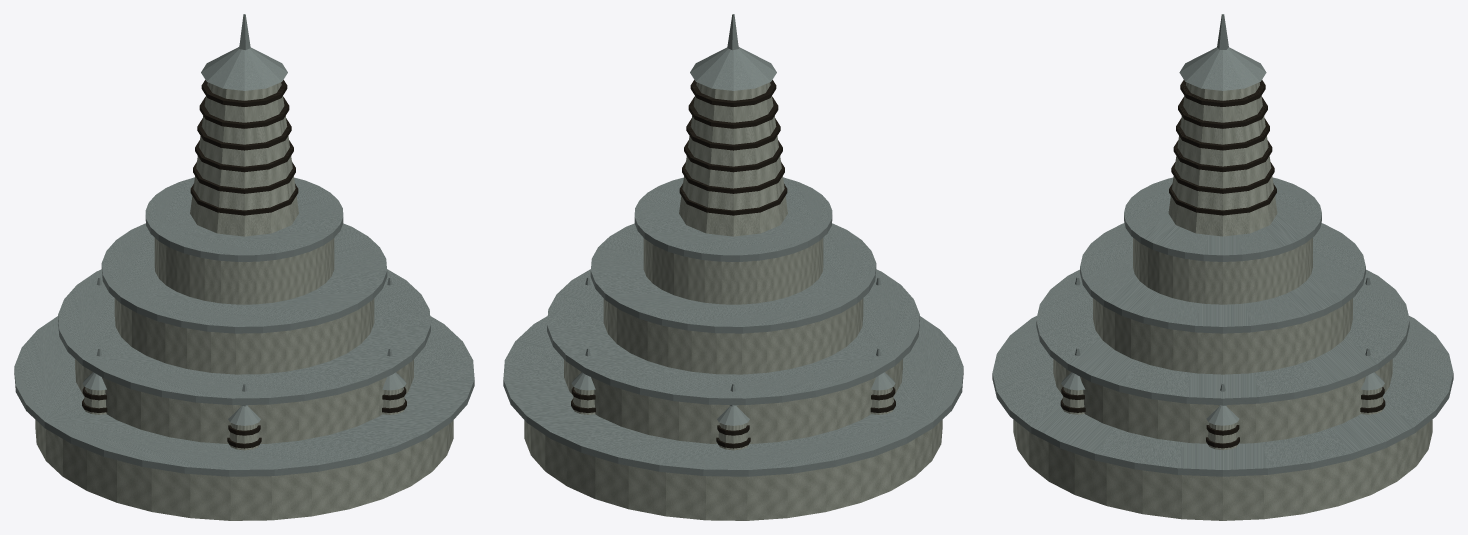
The model's file is city_arcology_01.fbx.
The picture shows the model from 3 angles, left to right: view 1: azimuth 30°, elevation 25°; view 2: azimuth 150°, elevation 25°; view 3: azimuth 270°, elevation 25°; orthographic projection.
Visible parts, largest first — view 1: city_arcology_01_LOD0; view 2: city_arcology_01_LOD0; view 3: city_arcology_01_LOD0.
Part boxes in pixels (<box>): city_arcology_01_LOD0: <box>14,14,474,520</box>; city_arcology_01_LOD0: <box>503,14,963,520</box>; city_arcology_01_LOD0: <box>992,14,1453,520</box>.
Size of what is drawn, in the model's own units: 1 by 1 by 1.
